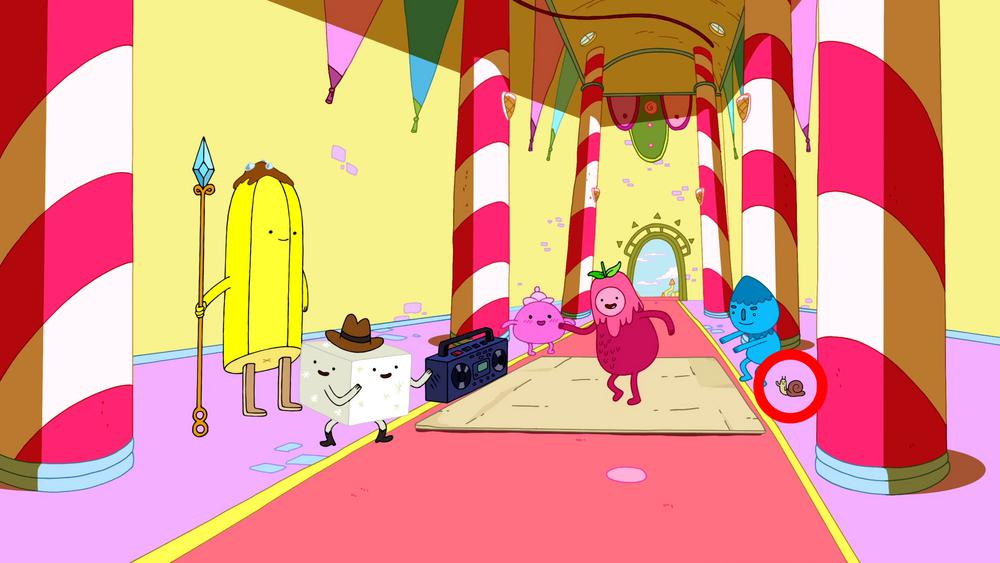snail: (774, 373, 810, 398)
